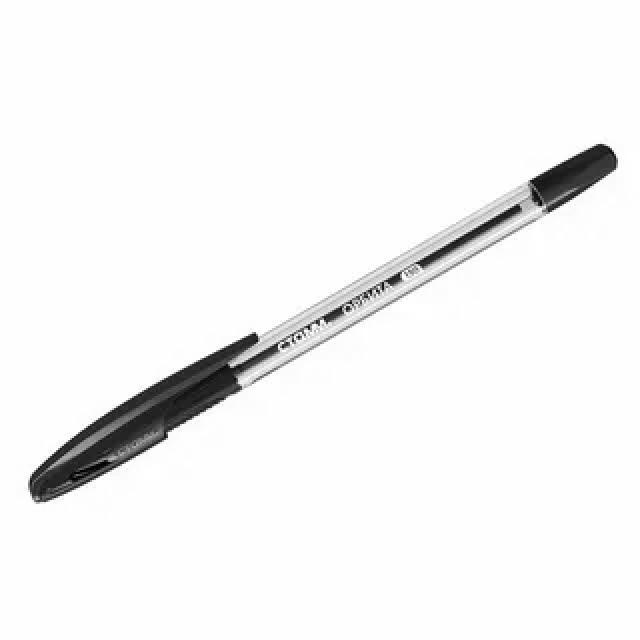pencil: (17, 105, 626, 551)
